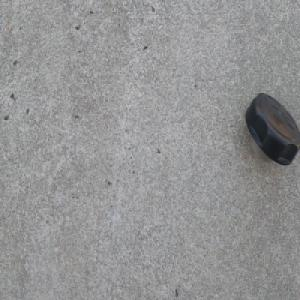FuelCap: (244, 92, 300, 167)
